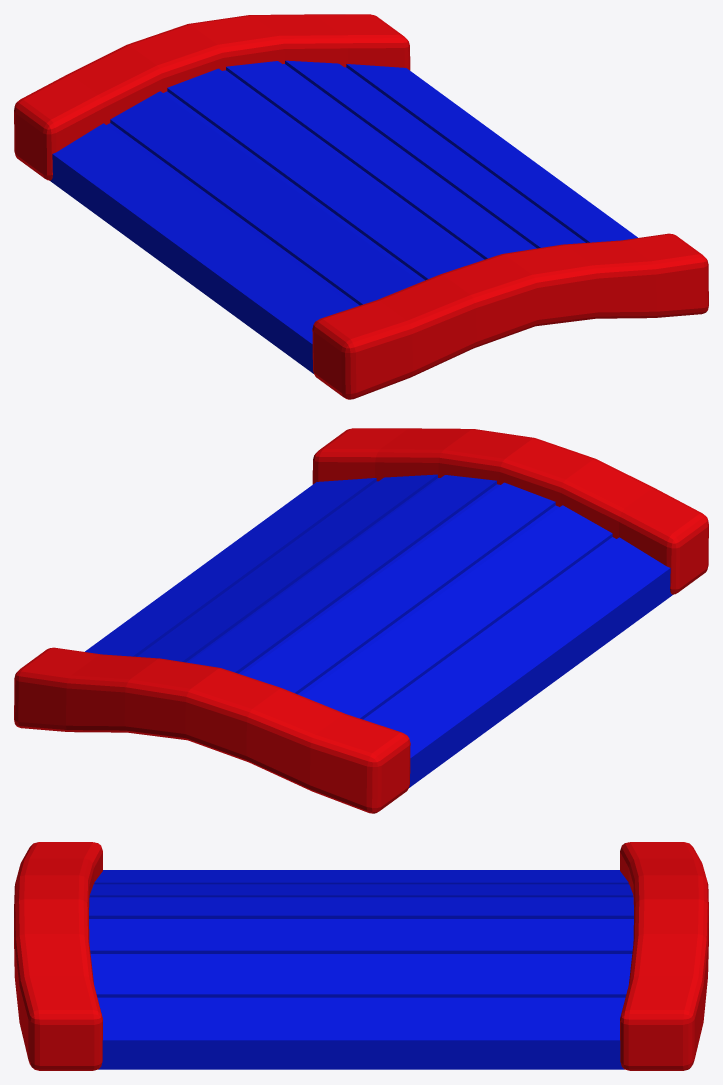
The model's file is Shild_3.fbx.
The picture shows the model from 3 angles, top to bottom: view 1: azimuth 30°, elevation 25°; view 2: azimuth 150°, elevation 25°; view 3: azimuth 270°, elevation 25°; orthographic projection.
Parts seen in each view (by area): view 1: wood-shild-3, Iron-shild-3; view 2: wood-shild-3, Iron-shild-3; view 3: wood-shild-3, Iron-shild-3.
Boxes of the visible parts, left/top/right/bottom form: wood-shild-3: left=50, top=60, right=637, bottom=373; Iron-shild-3: left=14, top=14, right=708, bottom=399; wood-shild-3: left=85, top=474, right=672, bottom=787; Iron-shild-3: left=14, top=428, right=708, bottom=813; wood-shild-3: left=89, top=870, right=633, bottom=1069; Iron-shild-3: left=14, top=842, right=708, bottom=1070.
Bounding box in the file's own units: 123 × 27.89 × 205.
